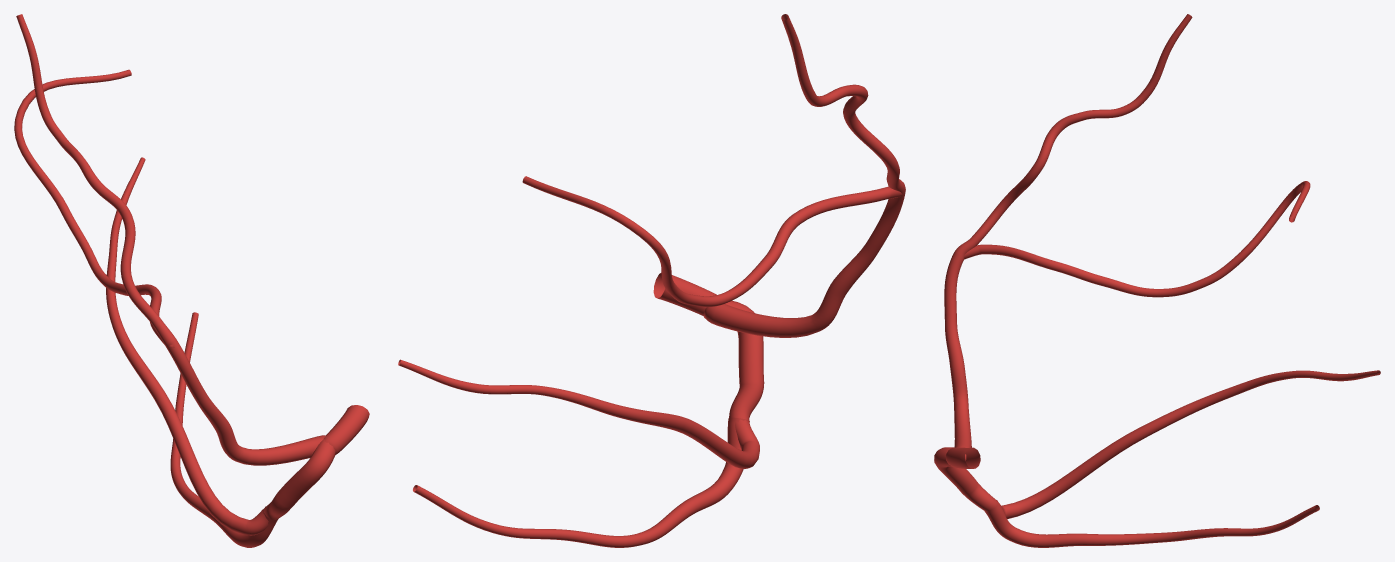
3 renders of one model, left to right at view 1: azimuth 30°, elevation 25°; view 2: azimuth 150°, elevation 25°; view 3: azimuth 270°, elevation 25°, orthographic. The views are drawn at different scales.
Parts seen in each view (by area): view 1: 右侧颞前支; view 2: 右侧颞前支; view 3: 右侧颞前支.
Part boxes in pixels (x1=…): 右侧颞前支: x1=14, y1=14, x2=369, y2=547; 右侧颞前支: x1=398, y1=14, x2=905, y2=547; 右侧颞前支: x1=934, y1=14, x2=1380, y2=547.
Bounding box in the file's own units: 0.0324 × 0.0624 × 0.0538.
